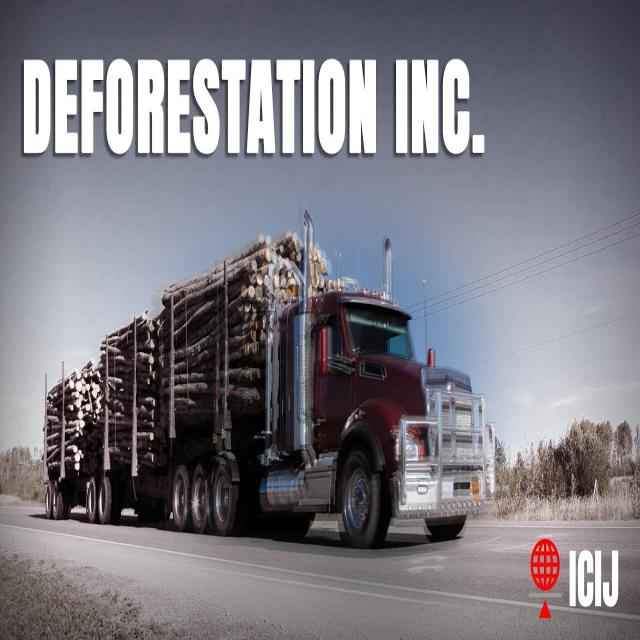Truck: (41, 232, 500, 526)
